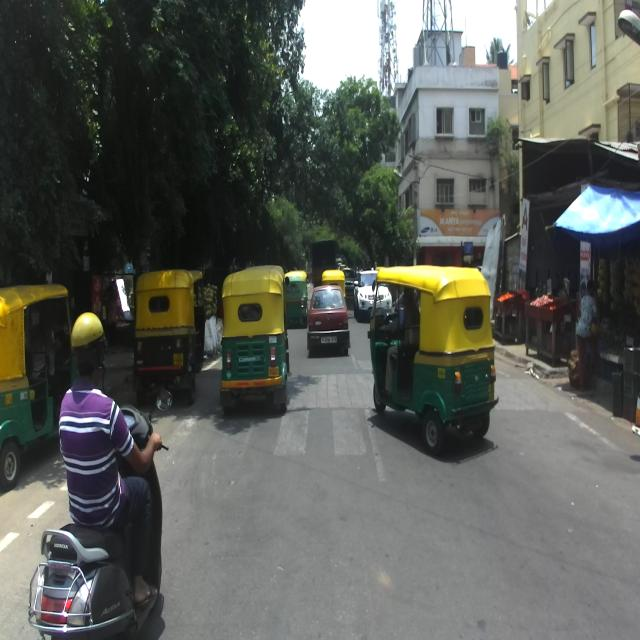auto ahead at: (367, 269, 498, 444), (219, 273, 294, 414), (133, 275, 205, 406)
car ahead at: (308, 281, 349, 357)
motorcycle ahead at: (25, 520, 172, 640)
